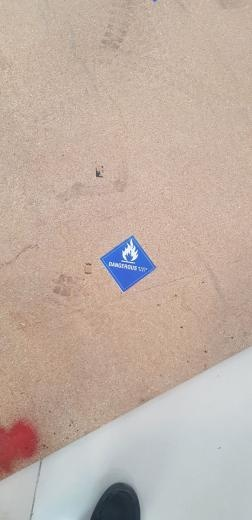Dangerous when wet: (100, 235, 155, 292)
